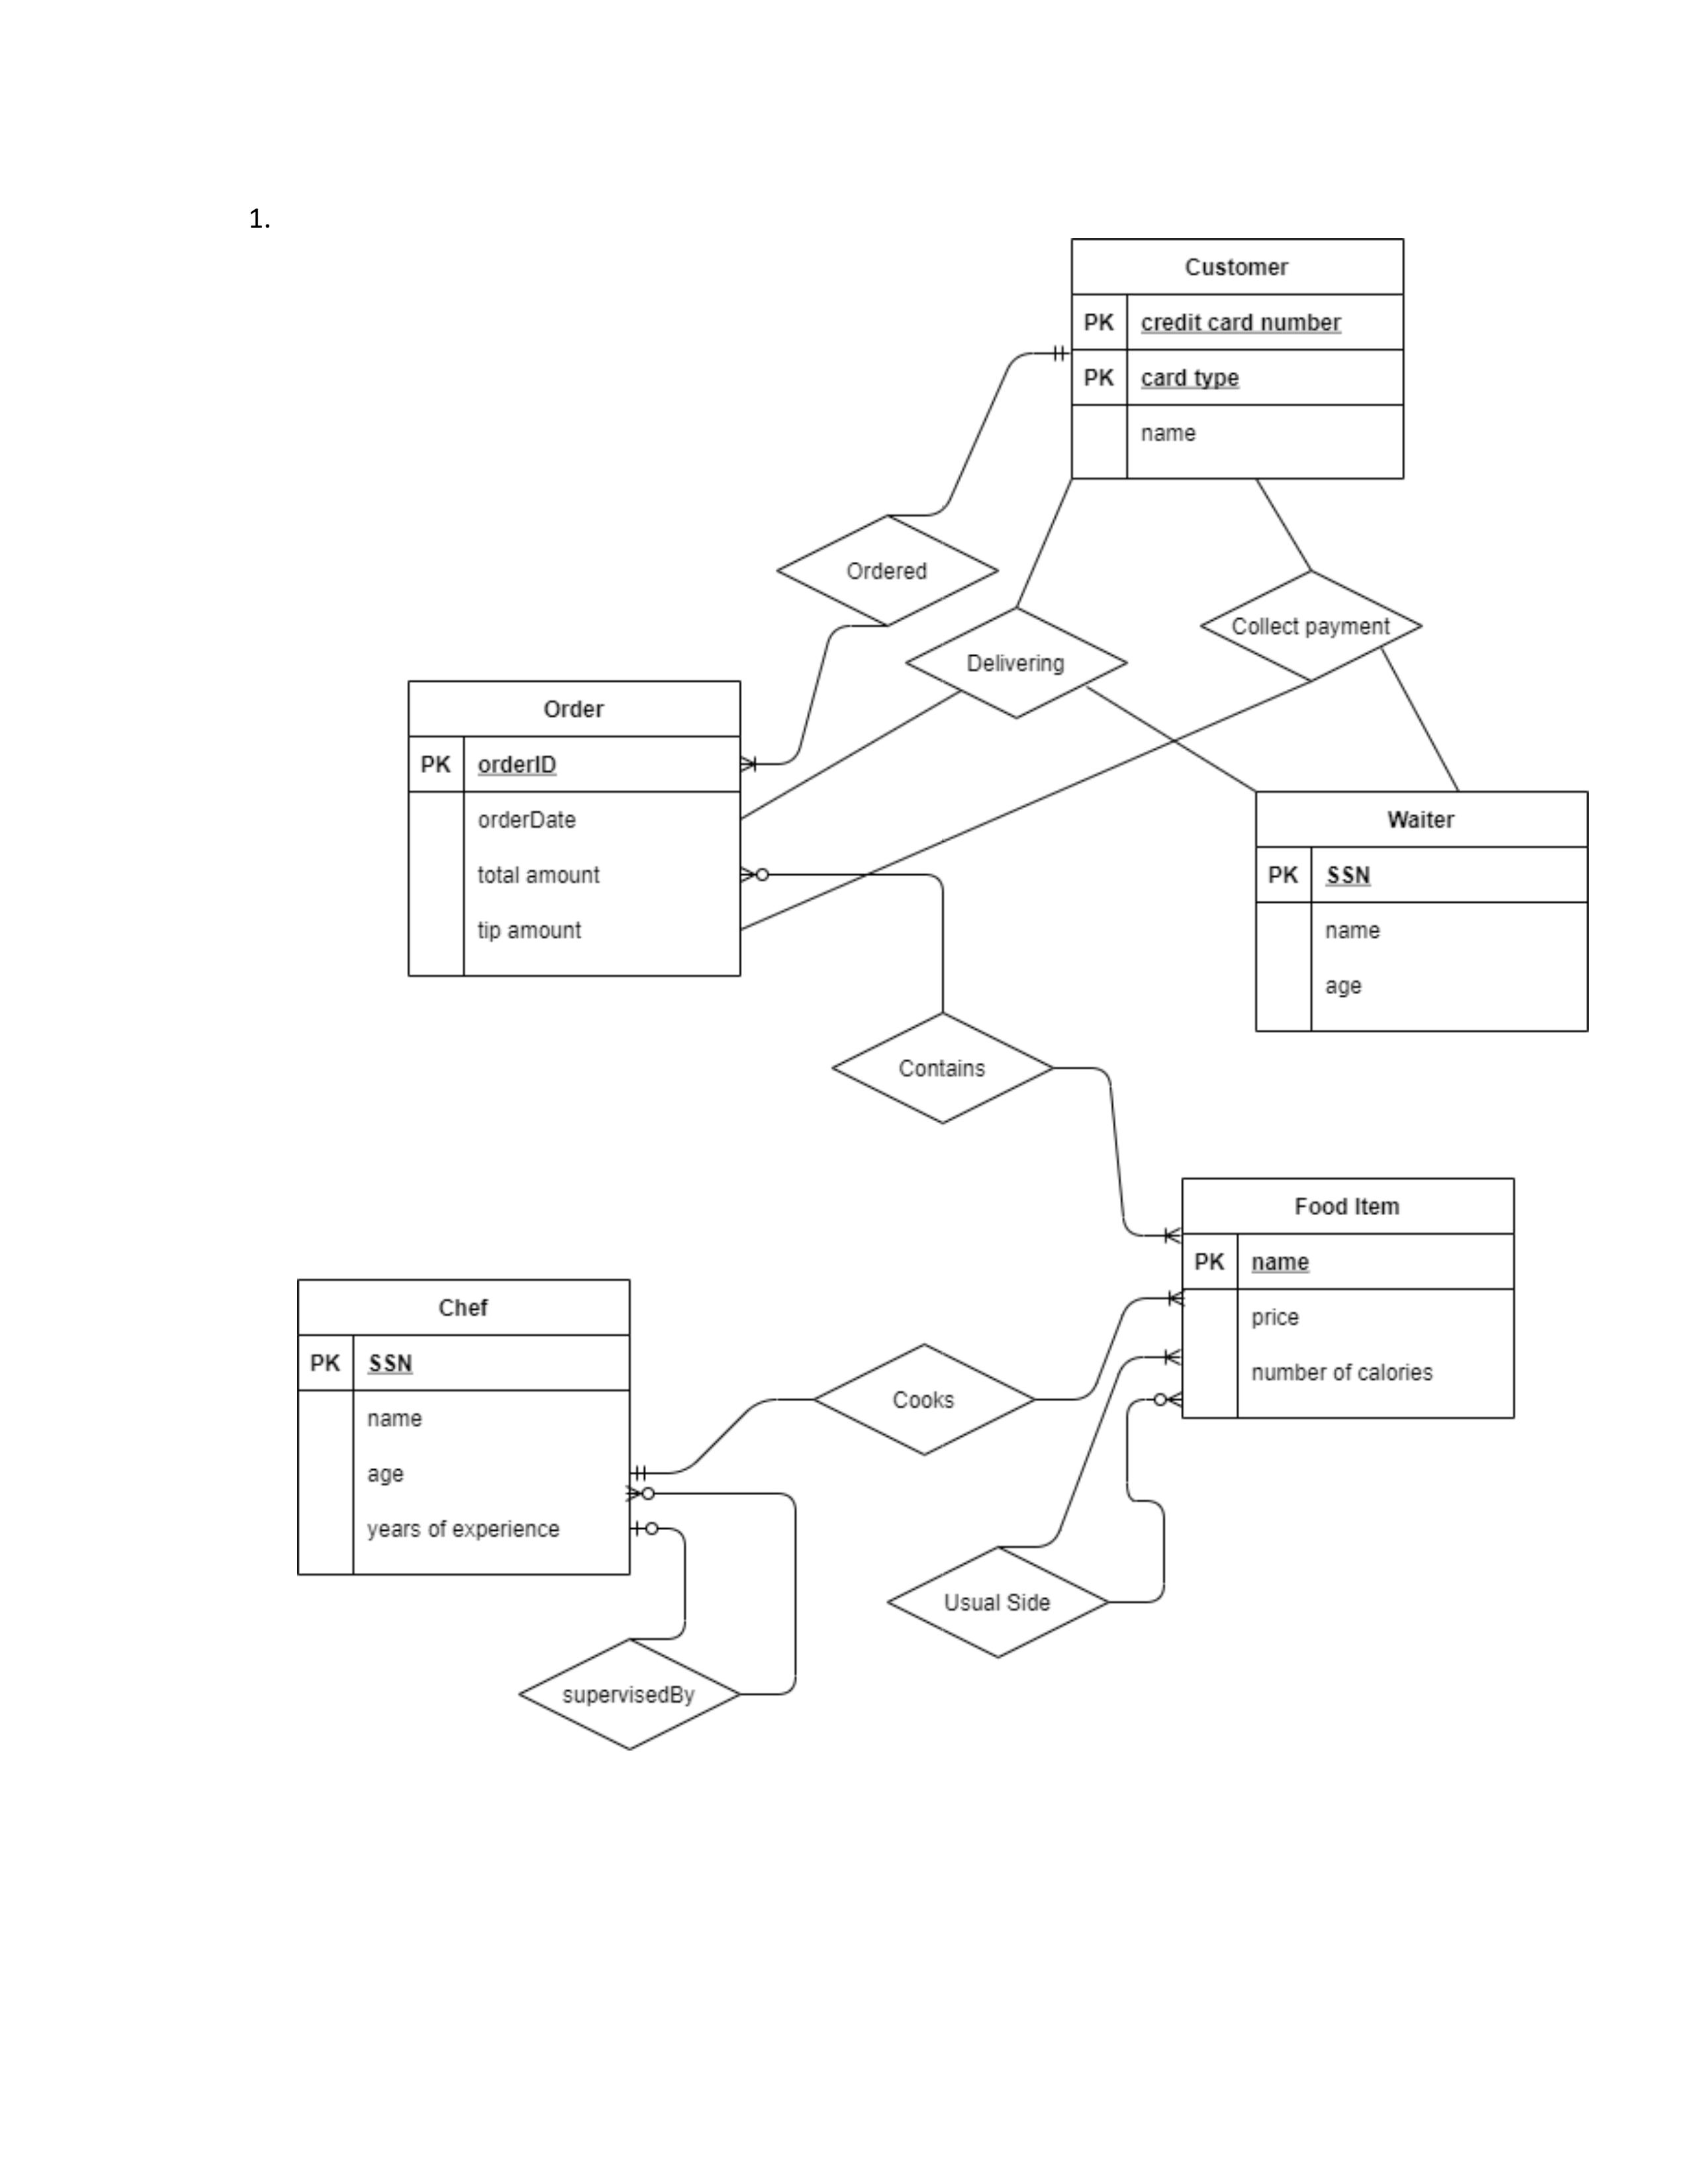Entity: (408, 679, 743, 979), (296, 1278, 631, 1576), (1069, 238, 1406, 480), (1254, 791, 1590, 1033), (1181, 1177, 1516, 1420)
Relationship: (906, 606, 1129, 721), (830, 1010, 1053, 1126), (777, 514, 1000, 628), (814, 1342, 1037, 1455), (887, 1546, 1110, 1659), (520, 1636, 741, 1750), (1199, 571, 1424, 681)
